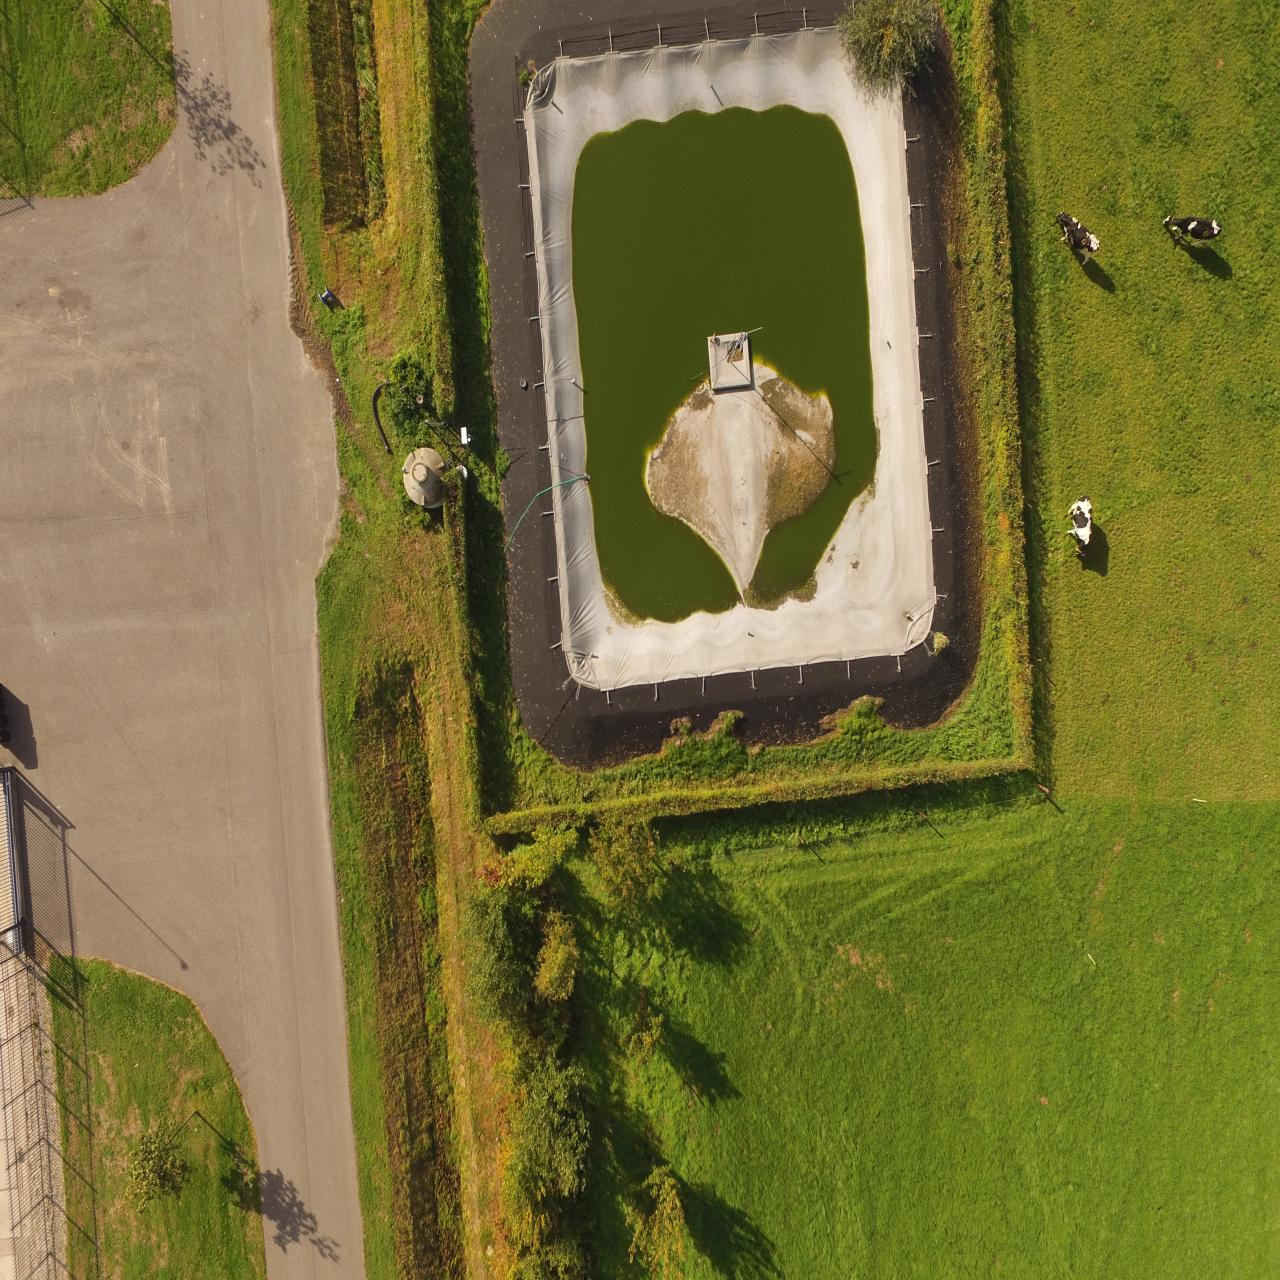cow: (1051, 206, 1103, 268), (1162, 210, 1224, 247), (1063, 491, 1095, 560)
